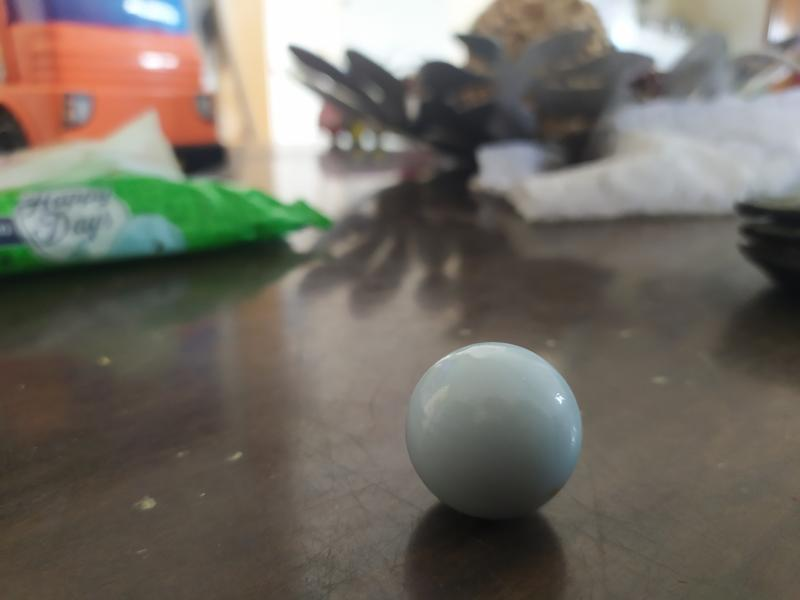Warning: (400, 337, 588, 525)
